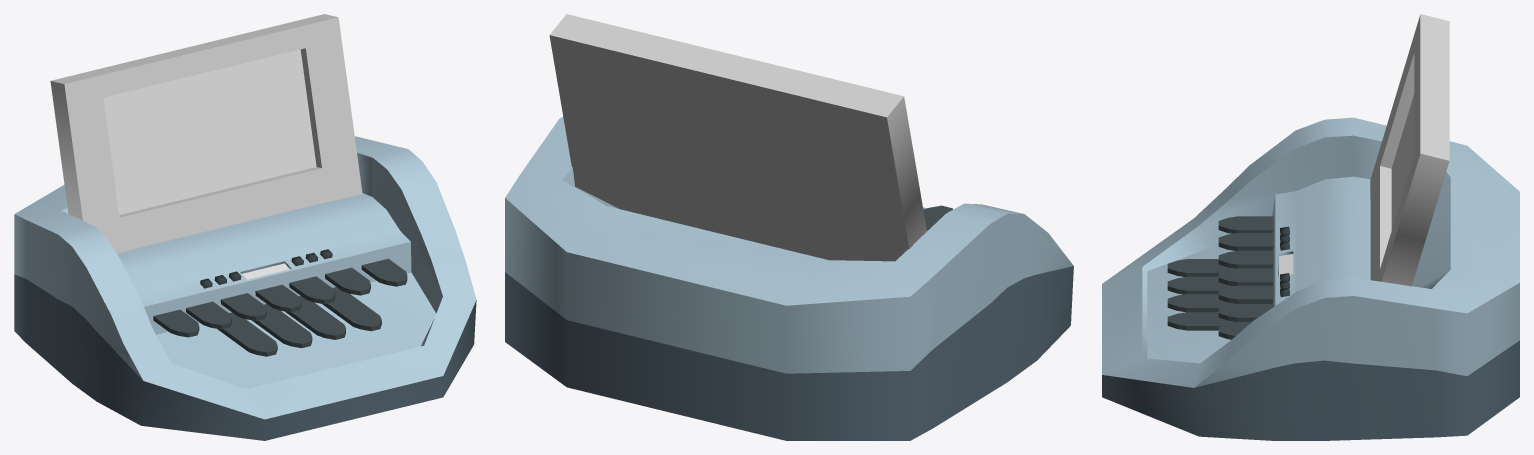
File: Stenographer machine.fbx
3 views of the same model, side by side, from view 1: azimuth 30°, elevation 25°; view 2: azimuth 150°, elevation 25°; view 3: azimuth 270°, elevation 25° (orthographic). The views are drawn at different scales.
Visible parts, largest first — view 1: Stenographer_Base, ScreenFrame, Screen; view 2: Stenographer_Base, ScreenFrame; view 3: Stenographer_Base, ScreenFrame, Screen.
Part boxes in pixels (<box>): Stenographer_Base: <box>14,136,476,440</box>; ScreenFrame: <box>50,14,362,253</box>; Screen: <box>103,49,316,214</box>; Stenographer_Base: <box>505,116,1073,440</box>; ScreenFrame: <box>549,14,926,261</box>; Stenographer_Base: <box>1102,117,1519,440</box>; ScreenFrame: <box>1370,14,1449,286</box>; Screen: <box>1391,94,1414,229</box>.
Bounding box in the file's own units: 0.4549 × 0.3188 × 0.4505.
